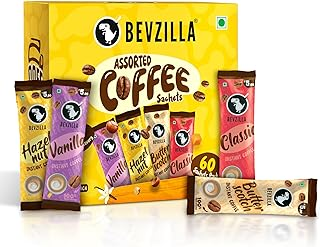Coffee: (14, 1, 320, 236)
